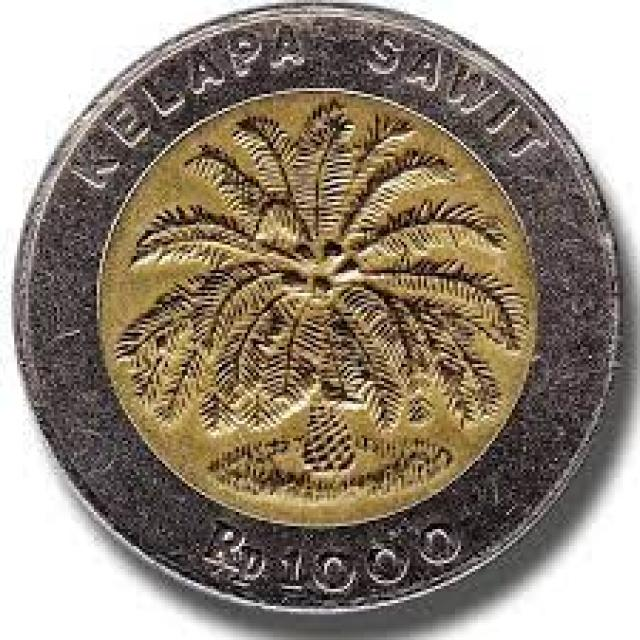1000-sawit: (5, 0, 640, 623)
